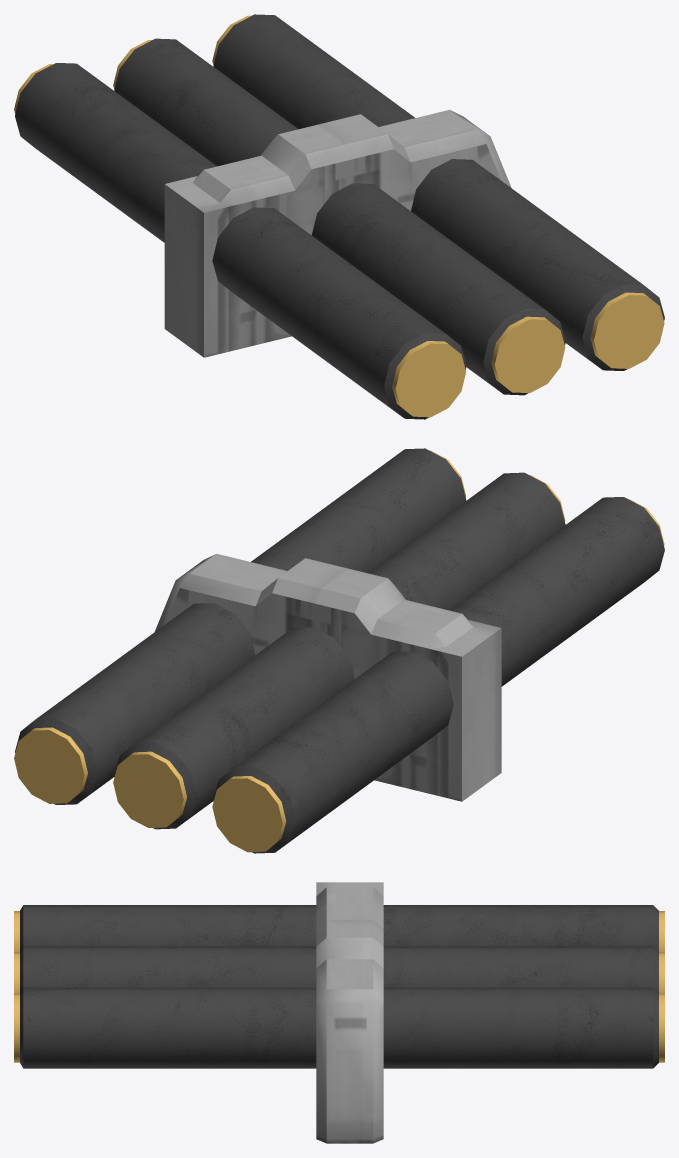
The model's file is 3_pipes.fbx.
3 renders of one model, top to bottom at view 1: azimuth 30°, elevation 25°; view 2: azimuth 150°, elevation 25°; view 3: azimuth 270°, elevation 25°, orthographic. The views are drawn at different scales.
Parts seen in each view (by area): view 1: 3_pipes; view 2: 3_pipes; view 3: 3_pipes.
Boxes of the visible parts, left/top/right/bottom form: 3_pipes: left=14, top=14, right=664, bottom=419; 3_pipes: left=14, top=448, right=664, bottom=853; 3_pipes: left=14, top=882, right=664, bottom=1143.
Bounding box in the file's own units: 200 × 100 × 400.
